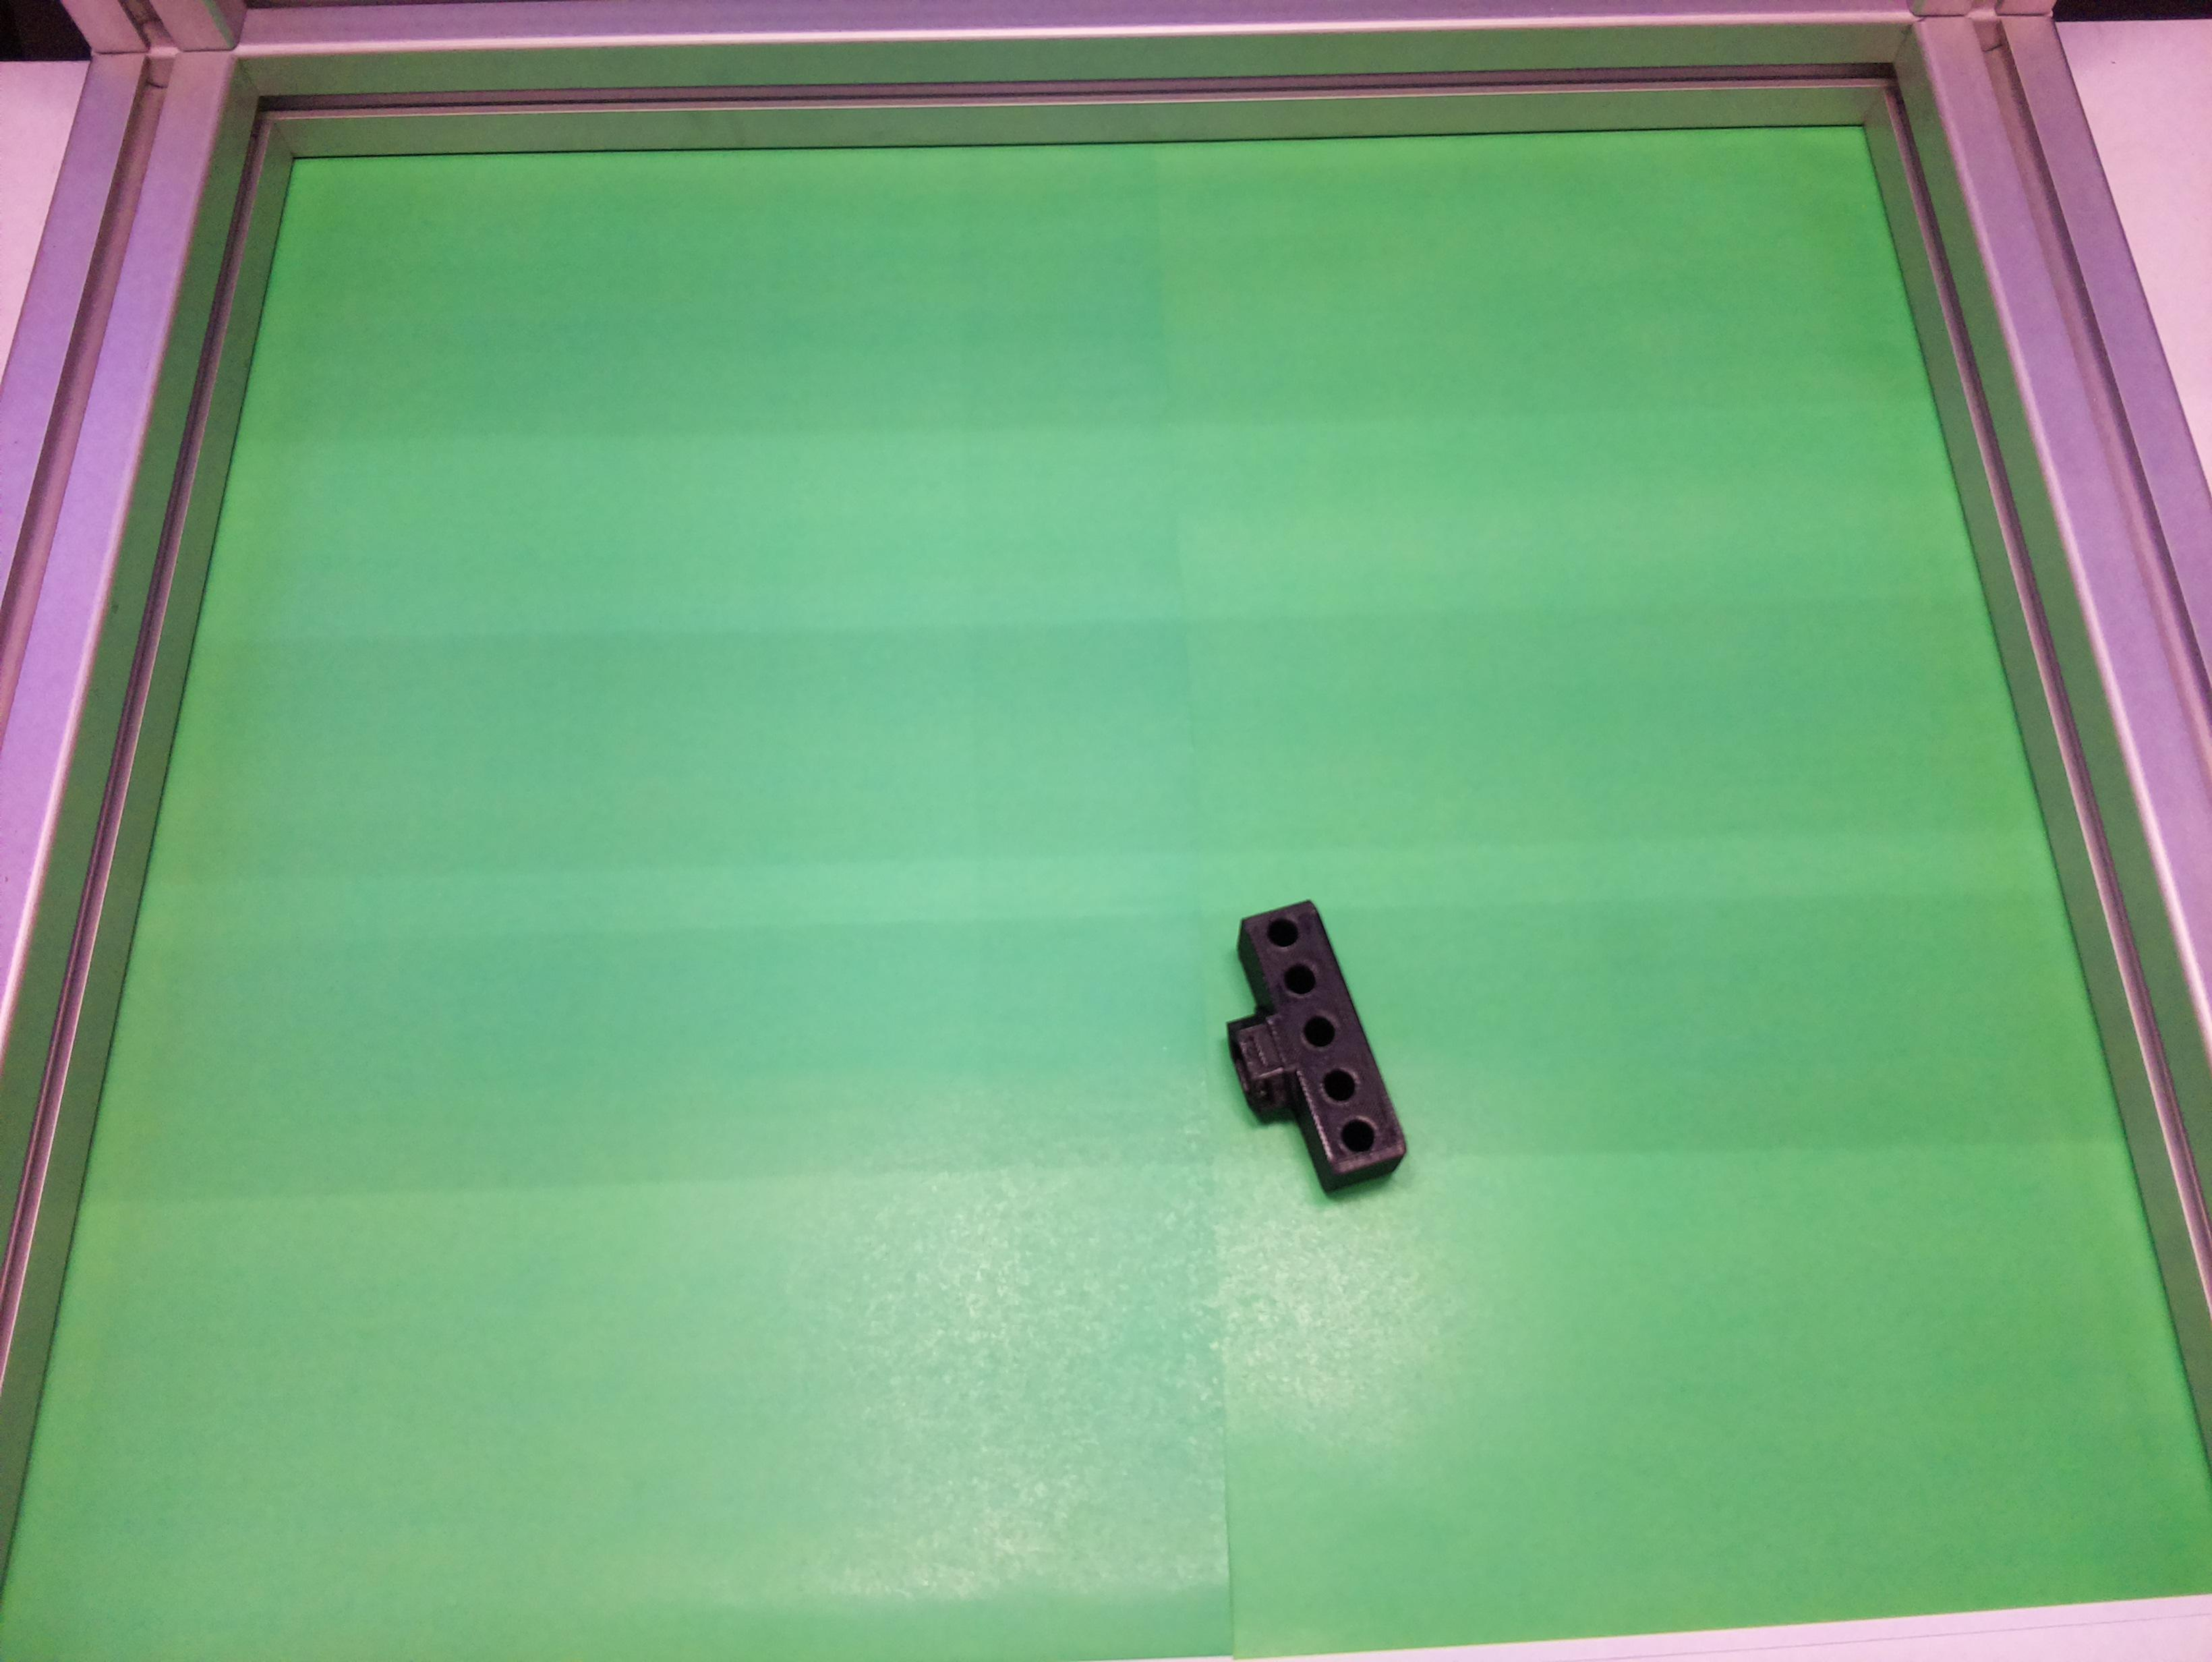bit_holder: (1184, 892, 1418, 1215)
